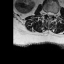CCS_normal: (49, 9, 51, 20)
LFS_normal: (54, 10, 56, 19)
LLS_normal: (51, 10, 54, 18)
RFS_normal: (44, 8, 46, 17)
RLS_normal: (46, 9, 49, 18)
